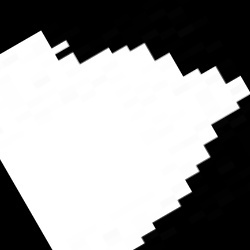spot: (2, 30, 249, 247)
